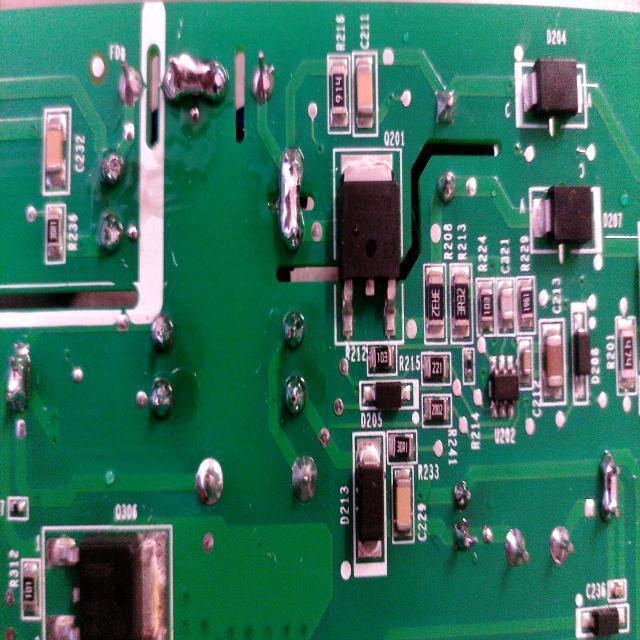Soldering shorted: (147, 42, 228, 118), (273, 137, 309, 259), (594, 446, 626, 534), (2, 340, 36, 419)
